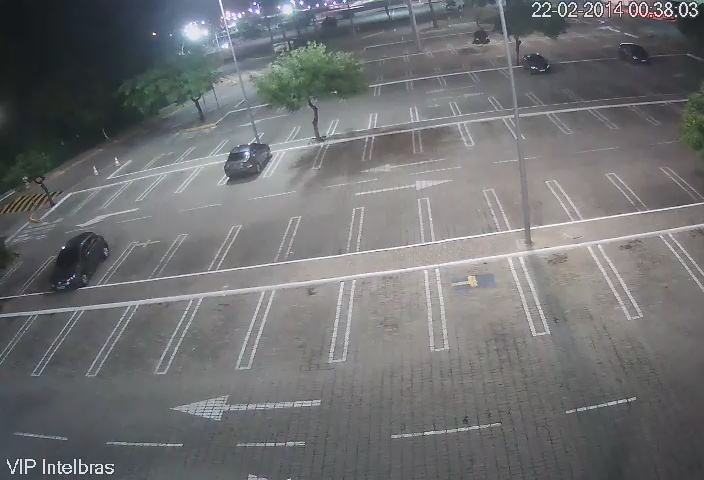car: (50, 239, 107, 287), (226, 139, 271, 180)
lot: (515, 248, 626, 328), (423, 266, 537, 339), (596, 237, 704, 312), (264, 272, 346, 368), (343, 273, 442, 352), (181, 285, 250, 375), (58, 303, 117, 379), (123, 298, 178, 379), (426, 191, 505, 243), (553, 170, 637, 218), (617, 165, 690, 213), (494, 182, 570, 228), (359, 202, 429, 250), (14, 312, 56, 380), (289, 214, 357, 256), (228, 219, 285, 269), (169, 229, 224, 271), (117, 238, 165, 282), (590, 102, 659, 132), (506, 111, 567, 144), (415, 122, 468, 157), (322, 140, 370, 175), (551, 107, 607, 137), (369, 131, 417, 165), (460, 121, 516, 150), (274, 144, 319, 178), (8, 253, 43, 293), (149, 169, 185, 205), (190, 158, 224, 190), (84, 182, 114, 216), (574, 79, 617, 100), (109, 176, 142, 203), (51, 190, 84, 216), (491, 89, 536, 108), (534, 87, 576, 106), (368, 109, 417, 125), (334, 113, 373, 129), (259, 126, 291, 143), (188, 140, 217, 158), (152, 151, 188, 165), (415, 106, 456, 118), (454, 100, 498, 111), (222, 135, 255, 148), (297, 126, 331, 138), (121, 158, 148, 171)
